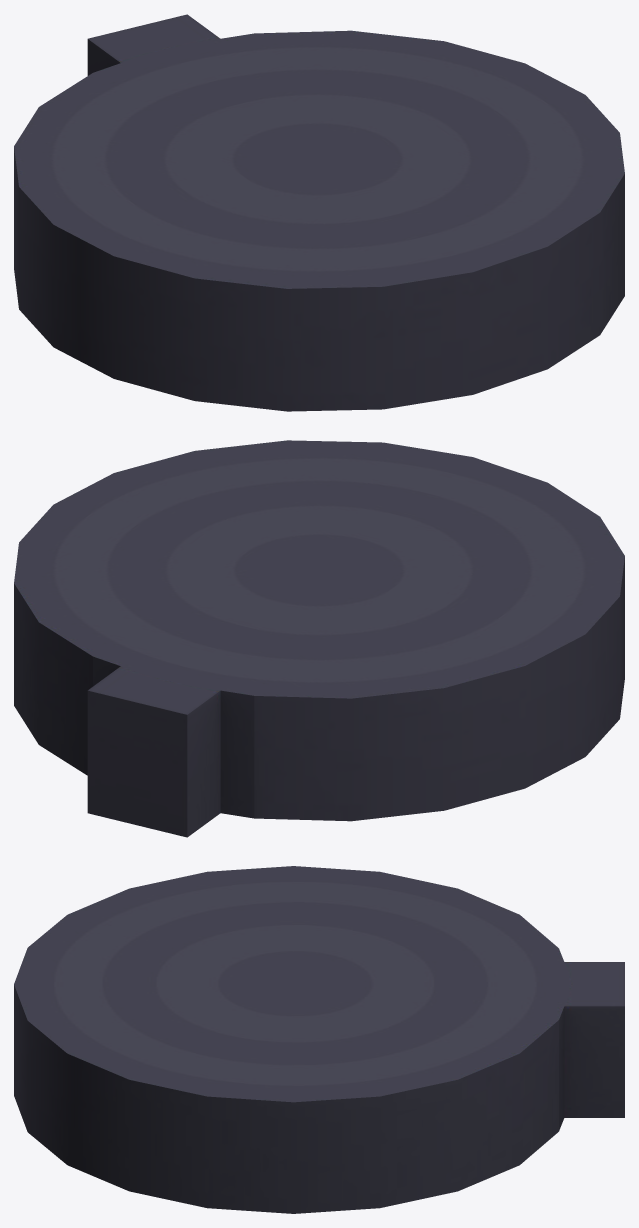
Rendered from Road_Finish_1.FBX.
3 renders of one model, top to bottom at view 1: azimuth 30°, elevation 25°; view 2: azimuth 150°, elevation 25°; view 3: azimuth 270°, elevation 25°, orthographic. The views are drawn at different scales.
Parts seen in each view (by area): view 1: Road_Finish_1; view 2: Road_Finish_1; view 3: Road_Finish_1.
Part boxes in pixels (box(x1,y1,x2,y2)): Road_Finish_1: box(14, 14, 624, 411); Road_Finish_1: box(14, 440, 624, 837); Road_Finish_1: box(14, 866, 624, 1213).
Size of the model in its own units: 32 by 7.05 by 34.96.
